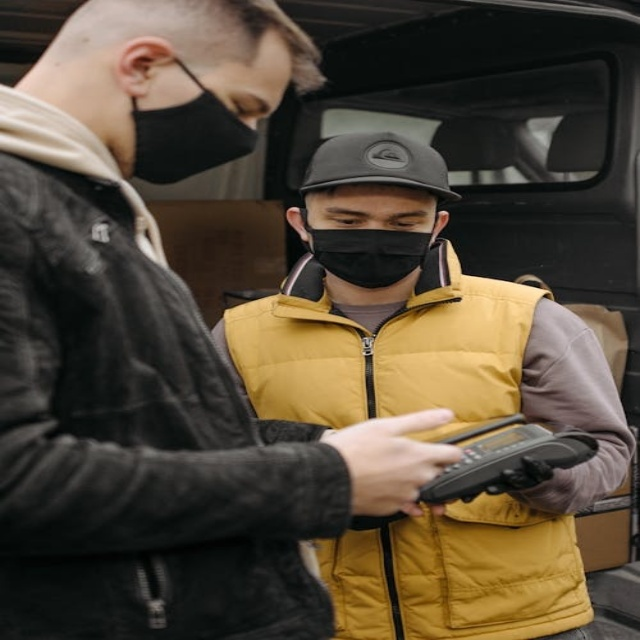Mascara: (129, 55, 262, 183), (301, 210, 437, 288)
Sin_gafas: (204, 75, 282, 126), (314, 201, 429, 226)
Sin_guantes: (322, 407, 471, 520)
